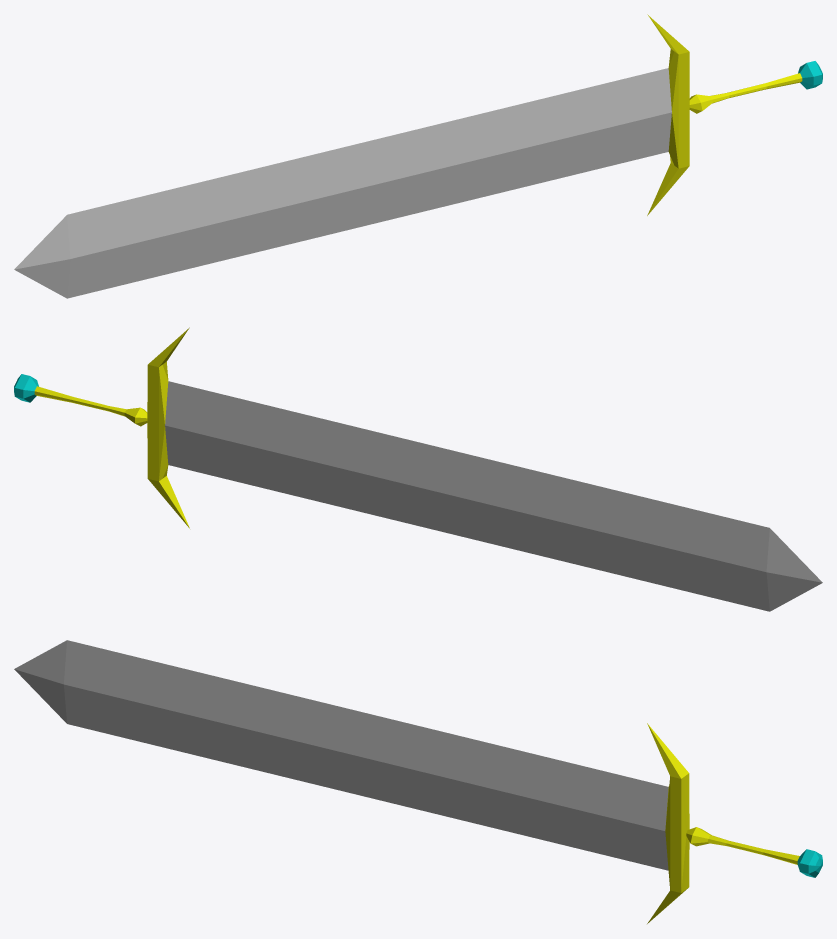
Rendered from Sword.fbx.
The picture shows the model from 3 angles, top to bottom: view 1: azimuth 30°, elevation 25°; view 2: azimuth 150°, elevation 25°; view 3: azimuth 330°, elevation 25°; orthographic projection.
Parts seen in each view (by area): view 1: Sword; view 2: Sword; view 3: Sword.
Boxes of the visible parts, x1=… form: Sword: x1=14, y1=14, x2=822, y2=298; Sword: x1=14, y1=327, x2=822, y2=611; Sword: x1=14, y1=640, x2=822, y2=923.
Bounding box in the file's own units: 171 × 40.93 × 4.98.
